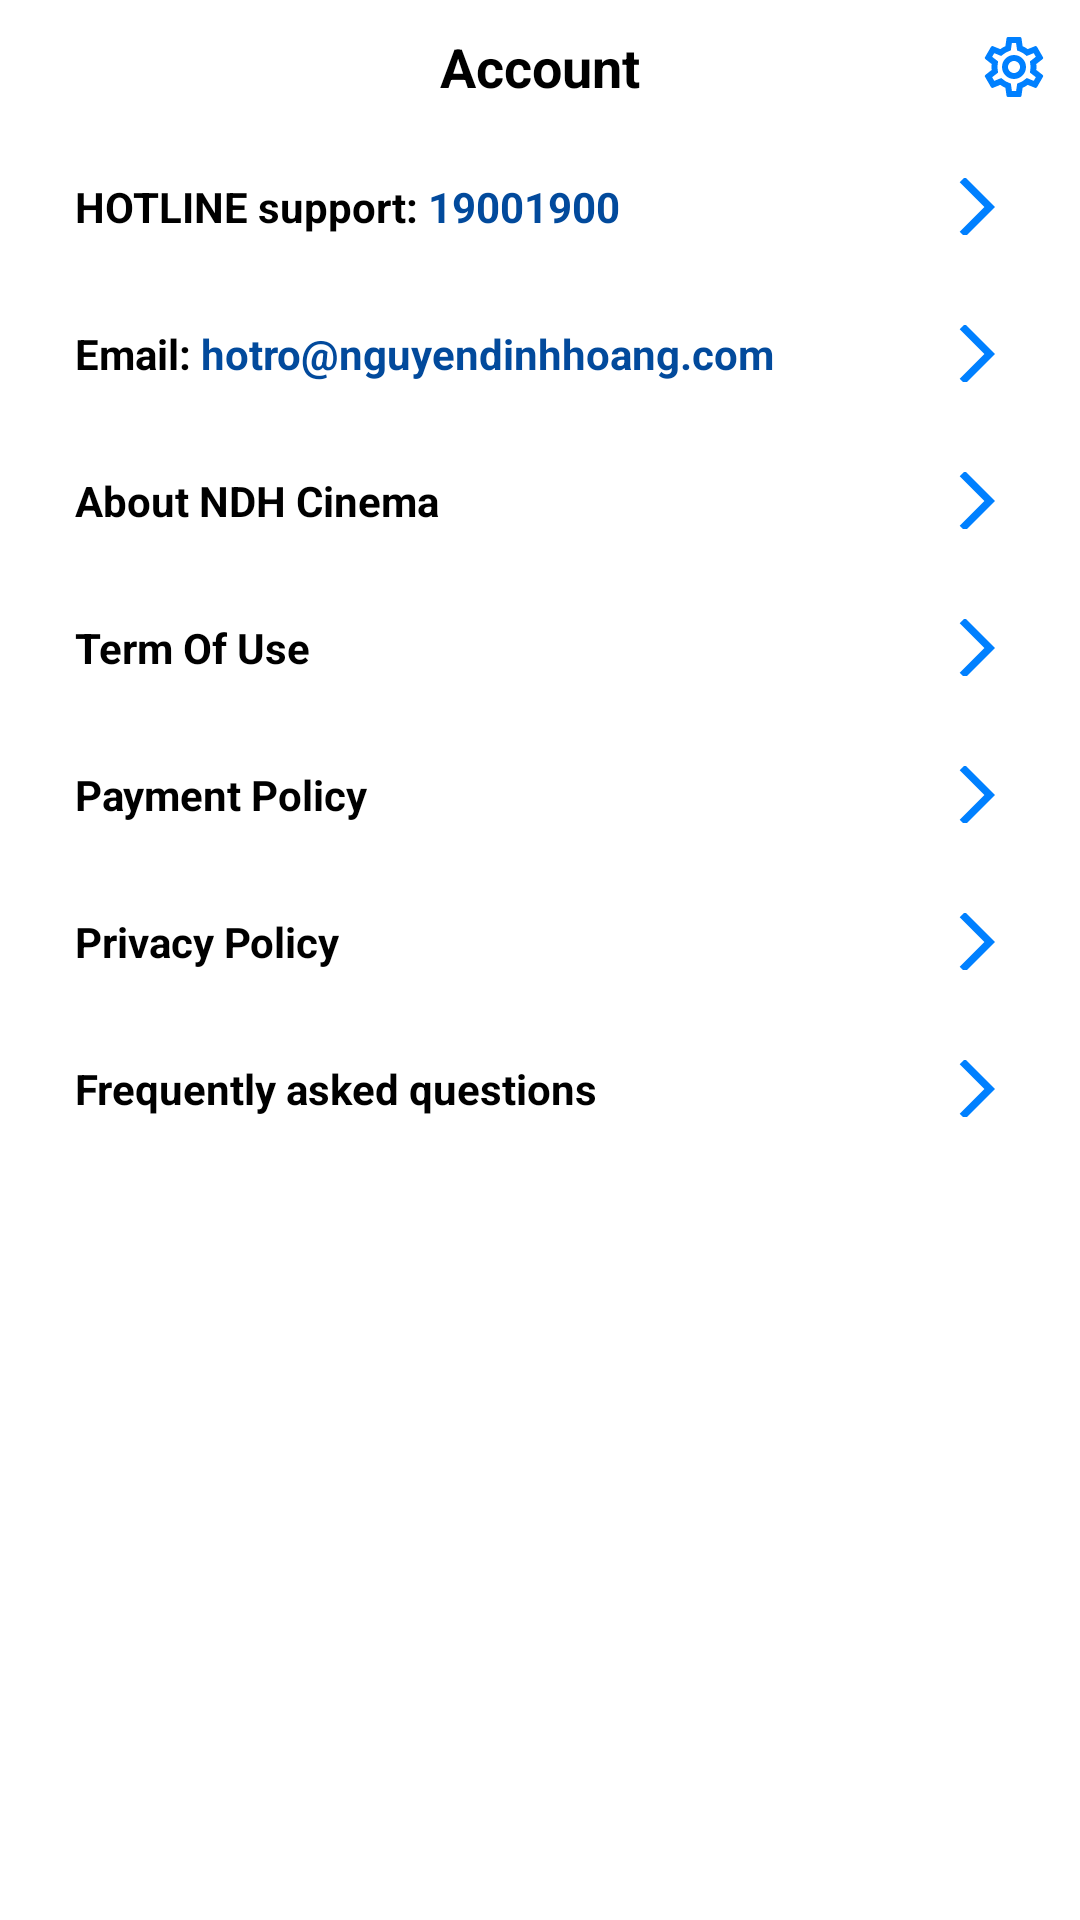

Where icons sit on this 1080*1920 app screen, as (x1, y1, x2, y2):
arrow forward: (960, 178, 995, 235), (960, 325, 995, 382), (960, 472, 995, 529), (960, 619, 995, 676), (960, 766, 995, 823), (960, 913, 995, 970), (960, 1060, 995, 1117)
settings: (984, 37, 1043, 97)
